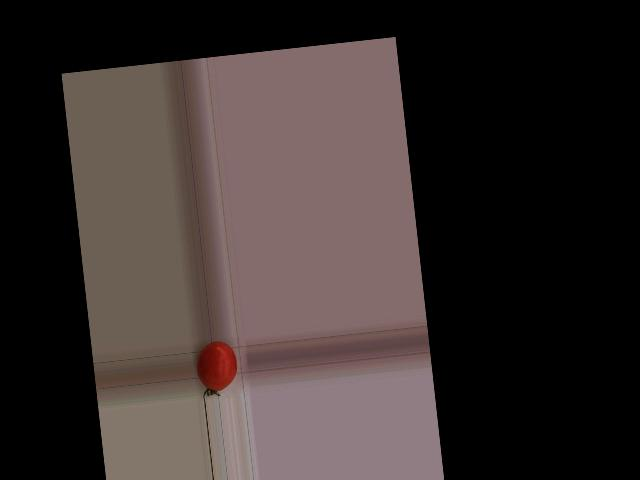tomato: (194, 339, 239, 393)
